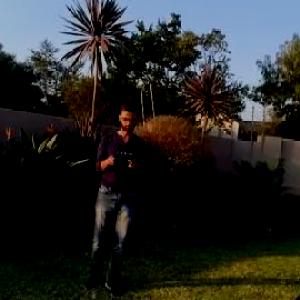follow: (79, 93, 148, 299)
null: (289, 280, 299, 299)
object: (81, 96, 149, 298)
